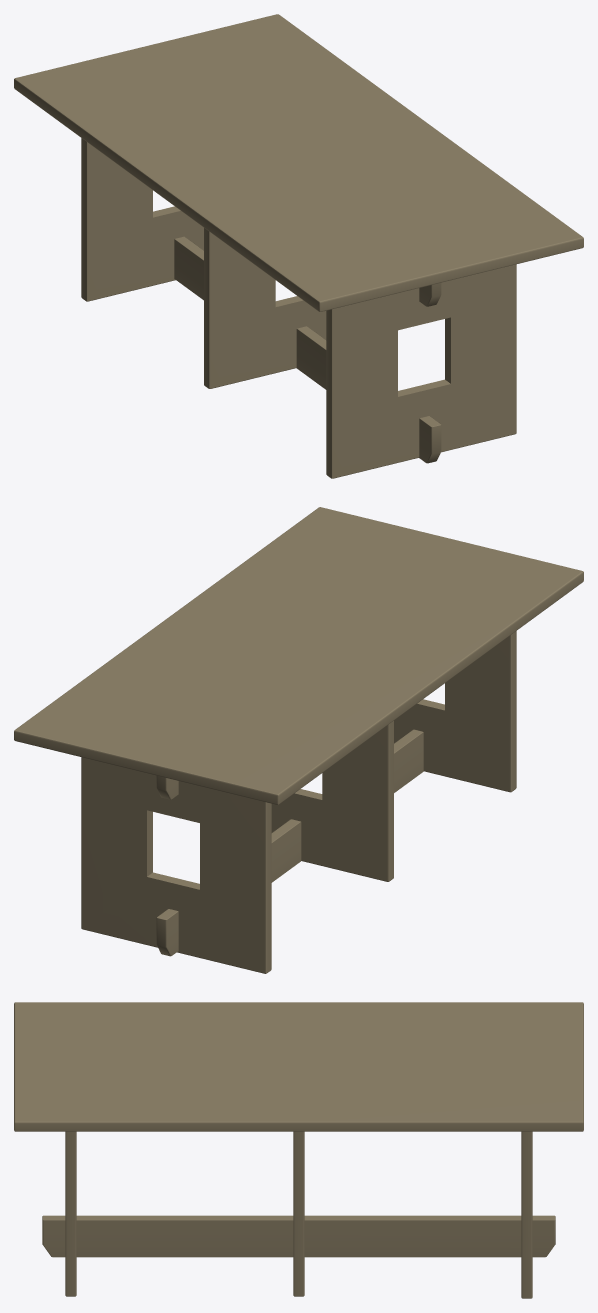
Rendered from Table.fbx.
The picture shows the model from 3 angles, top to bottom: view 1: azimuth 30°, elevation 25°; view 2: azimuth 150°, elevation 25°; view 3: azimuth 270°, elevation 25°; orthographic projection. The views are drawn at different scales.
Parts seen in each view (by area): view 1: pCube1, polySurface1, polySurface3, polySurface2, pCube6; view 2: pCube1, polySurface3, polySurface1, polySurface2, pCube6; view 3: pCube1, pCube6, polySurface3, polySurface2, polySurface1.
Boxes of the visible parts, left/top/right/bottom form: pCube1: left=14, top=14, right=583, bottom=311; polySurface1: left=326, top=264, right=516, bottom=478; polySurface3: left=81, top=138, right=203, bottom=301; polySurface2: left=204, top=228, right=326, bottom=388; pCube6: left=174, top=236, right=441, bottom=463; pCube1: left=14, top=507, right=583, bottom=804; polySurface3: left=81, top=757, right=271, bottom=973; polySurface1: left=394, top=631, right=516, bottom=792; polySurface2: left=271, top=721, right=393, bottom=881; pCube6: left=156, top=729, right=423, bottom=956; pCube1: left=14, top=1002, right=583, bottom=1131; pCube6: left=42, top=1215, right=555, bottom=1257; polySurface3: left=521, top=1131, right=532, bottom=1298; polySurface2: left=293, top=1131, right=304, bottom=1296; polySurface1: left=65, top=1131, right=76, bottom=1296.
Size of the model in its own units: 5 by 3.78 by 10.
